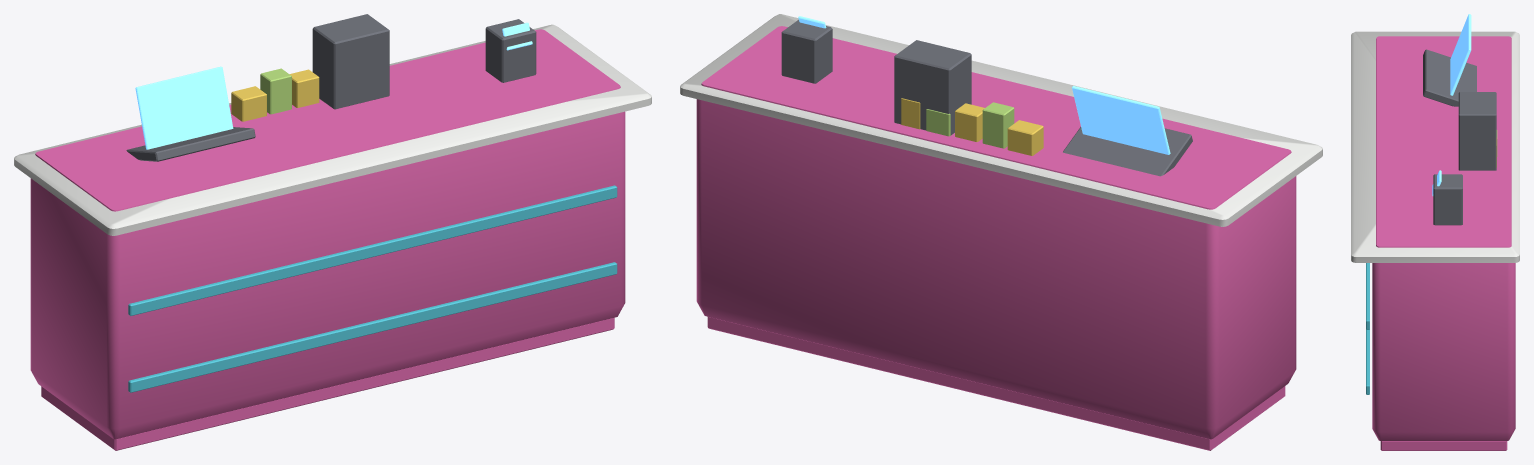
Rendered from laser-tag-arena-and-activity-centre-reception-desk-wit-d48ed908__34496.glb.
3 renders of one model, left to right at view 1: azimuth 30°, elevation 25°; view 2: azimuth 150°, elevation 25°; view 3: azimuth 270°, elevation 25°, orthographic. The views are drawn at different scales.
Visible parts, largest first — view 1: reception-desk-with-screen; view 2: reception-desk-with-screen; view 3: reception-desk-with-screen.
Part boxes in pixels (<box>): reception-desk-with-screen: <box>14,14,651,450</box>; reception-desk-with-screen: <box>680,14,1322,450</box>; reception-desk-with-screen: <box>1351,14,1519,450</box>.
Size of the model in its own units: 2.52 by 1.37 by 0.7999.
